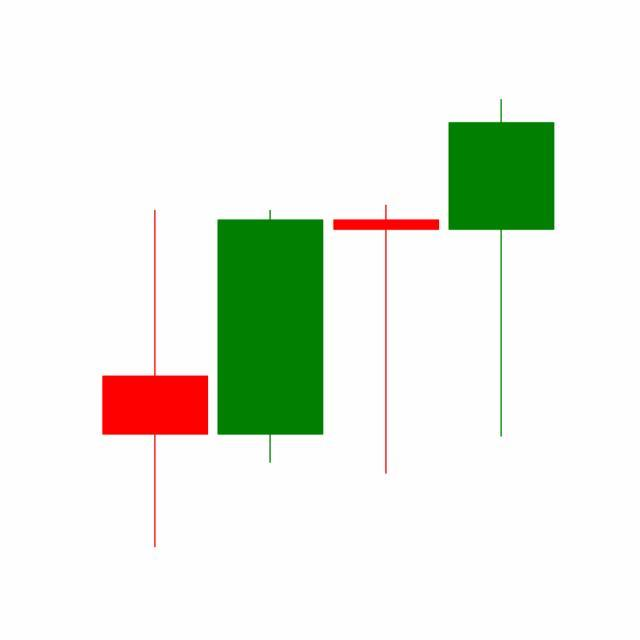Hanging Man: (329, 203, 445, 478)
